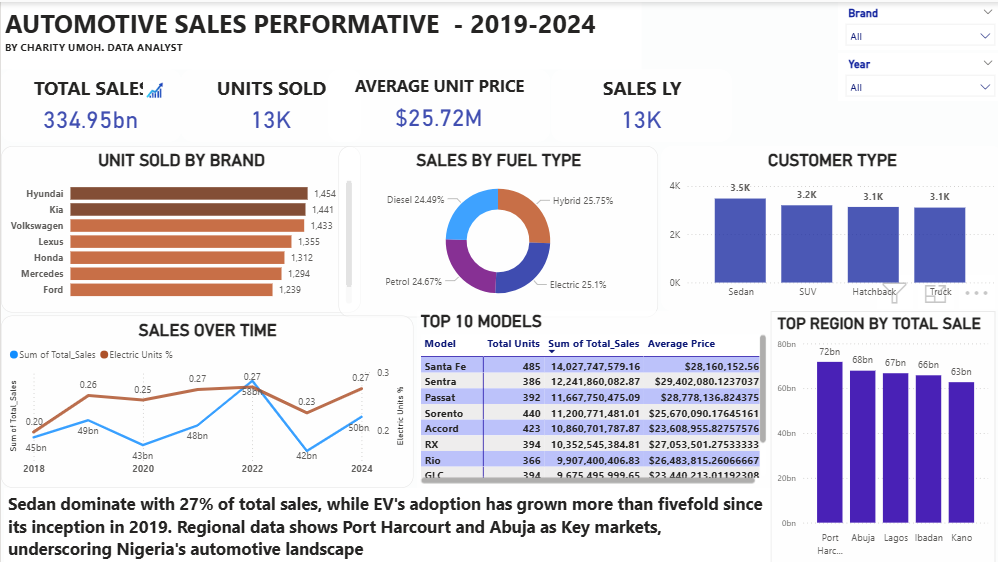

The page's visual inventory and layout, read from the dashboard file:
{"tool":"powerbi","page":{"name":"Page 1","canvas":[1280,720],"ordinal":0},"visuals":[{"type":"textbox","box":[0,0,817.8,86.2],"z":0},{"type":"card","title":"      TOTAL SALES ","fields":{"Values":["Sum(AUTO SALES.Total_Sales)"]},"box":[0,86.2,229.8,91.9],"z":1000},{"type":"card","title":"      UNITS SOLD","fields":{"Values":["AUTO SALES.Total Units"]},"box":[229.8,86.2,229.8,91.9],"z":2000},{"type":"card","title":" AVERAGE UNIT PRICE","fields":{"Values":["AUTO SALES.Average Price"]},"box":[417.5,86.2,283.5,91.9],"z":3000},{"type":"barChart","title":"UNIT SOLD BY BRAND","fields":{"Y":["AUTO SALES.Total Units"],"Category":["AUTO SALES.Brand"]},"box":[0,183.9,459.7,212.6],"z":4000},{"type":"donutChart","title":"SALES BY FUEL TYPE ","fields":{"Category":["AUTO SALES.Fuel_Type"],"Y":["Sum(AUTO SALES.Total_Sales)"]},"box":[430.9,183.9,407.9,218.3],"z":5000},{"type":"lineChart","title":"SALES OVER TIME","fields":{"Category":["AUTO SALES.Year"],"Y":["Sum(AUTO SALES.Total_Sales)"],"Y2":["AUTO SALES.Electric Units %"]},"box":[0,400.3,526.7,220.3],"z":6000},{"type":"clusteredColumnChart","title":"TOP REGION BY TOTAL SALE","fields":{"Category":["AUTO SALES.Region"],"Y":["Sum(AUTO SALES.Total_Sales)"]},"box":[982.5,394.5,287.3,325.6],"z":7000},{"type":"pivotTable","title":"TOP 10 MODELS","fields":{"Values":["AUTO SALES.Total Units","Sum(AUTO SALES.Total_Sales)","AUTO SALES.Average Price"],"Rows":["AUTO SALES.Model"]},"box":[530.5,394.5,452,226],"z":8000},{"type":"slicer","fields":{"Values":["AUTO SALES.Brand"]},"box":[1068.7,0,210.7,61.3],"z":10000},{"type":"slicer","fields":{"Values":["AUTO SALES.Year"]},"box":[1068.7,65.1,210.7,61.3],"z":11000},{"type":"card","title":"SALES LY","fields":{"Values":["AUTO SALES.Sales LY"]},"box":[702.9,86.2,229.8,91.9],"z":12000},{"type":"textbox","box":[3.8,620.5,978.7,99.6],"z":13000},{"type":"image","box":[137.9,95.8,114.9,32.6],"z":14000},{"type":"columnChart","title":"CUSTOMER TYPE ","fields":{"Category":["AUTO SALES.Body_Type"],"Y":["AUTO SALES.Total Units"]},"box":[842.7,183.9,436.7,210.7],"z":15000}]}

Visuals, with their boxes in screenshot pixels (x1, y1, x2, y2), scaled from the page's 1280x720 canvas onto the 998x562 screenshot:
textbox: 0, 0, 638, 67
"      TOTAL SALES " card: 0, 67, 179, 139
"      UNITS SOLD" card: 179, 67, 358, 139
" AVERAGE UNIT PRICE" card: 326, 67, 547, 139
"UNIT SOLD BY BRAND" barChart: 0, 144, 358, 309
"SALES BY FUEL TYPE " donutChart: 336, 144, 654, 314
"SALES OVER TIME" lineChart: 0, 312, 411, 484
"TOP REGION BY TOTAL SALE" clusteredColumnChart: 766, 308, 990, 561
"TOP 10 MODELS" pivotTable: 414, 308, 766, 484
slicer - AUTO SALES.Brand: 833, 0, 997, 48
slicer - AUTO SALES.Year: 833, 51, 997, 99
"SALES LY" card: 548, 67, 727, 139
textbox: 3, 484, 766, 561
image: 108, 75, 197, 100
"CUSTOMER TYPE " columnChart: 657, 144, 997, 308
